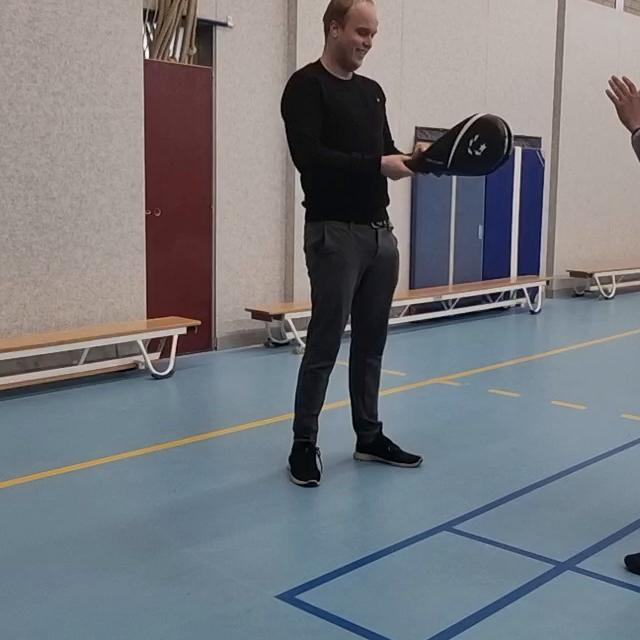paddle: (400, 115, 508, 173)
